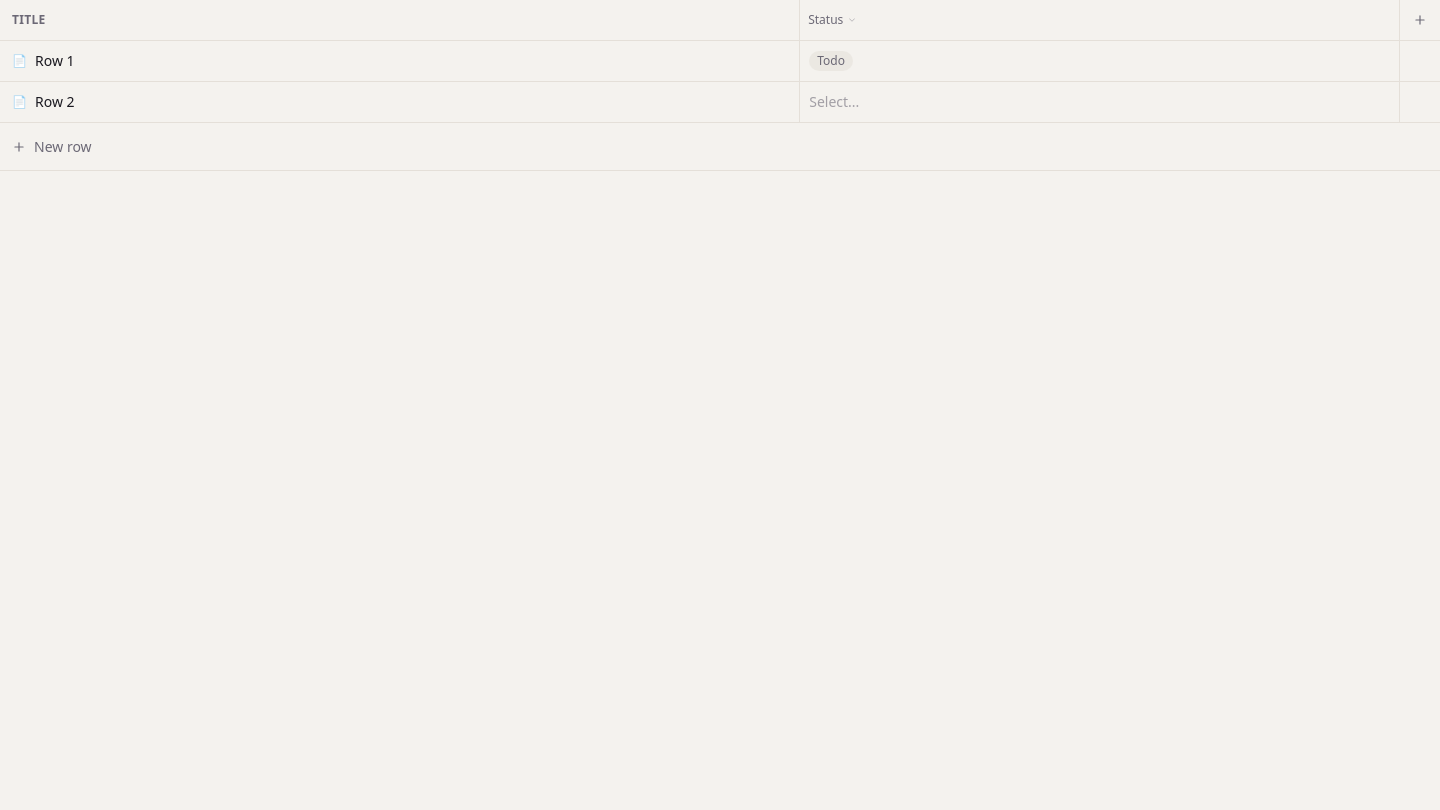
Test: DatabaseView — option management › shows options when the select cell is open
The image size is (1440, 810).
Expected: the text "Select..." is shown, left=809, top=92, right=859, bottom=112
Click the button "Select...". click: (834, 102)
box: left=800, top=82, right=1399, bottom=122
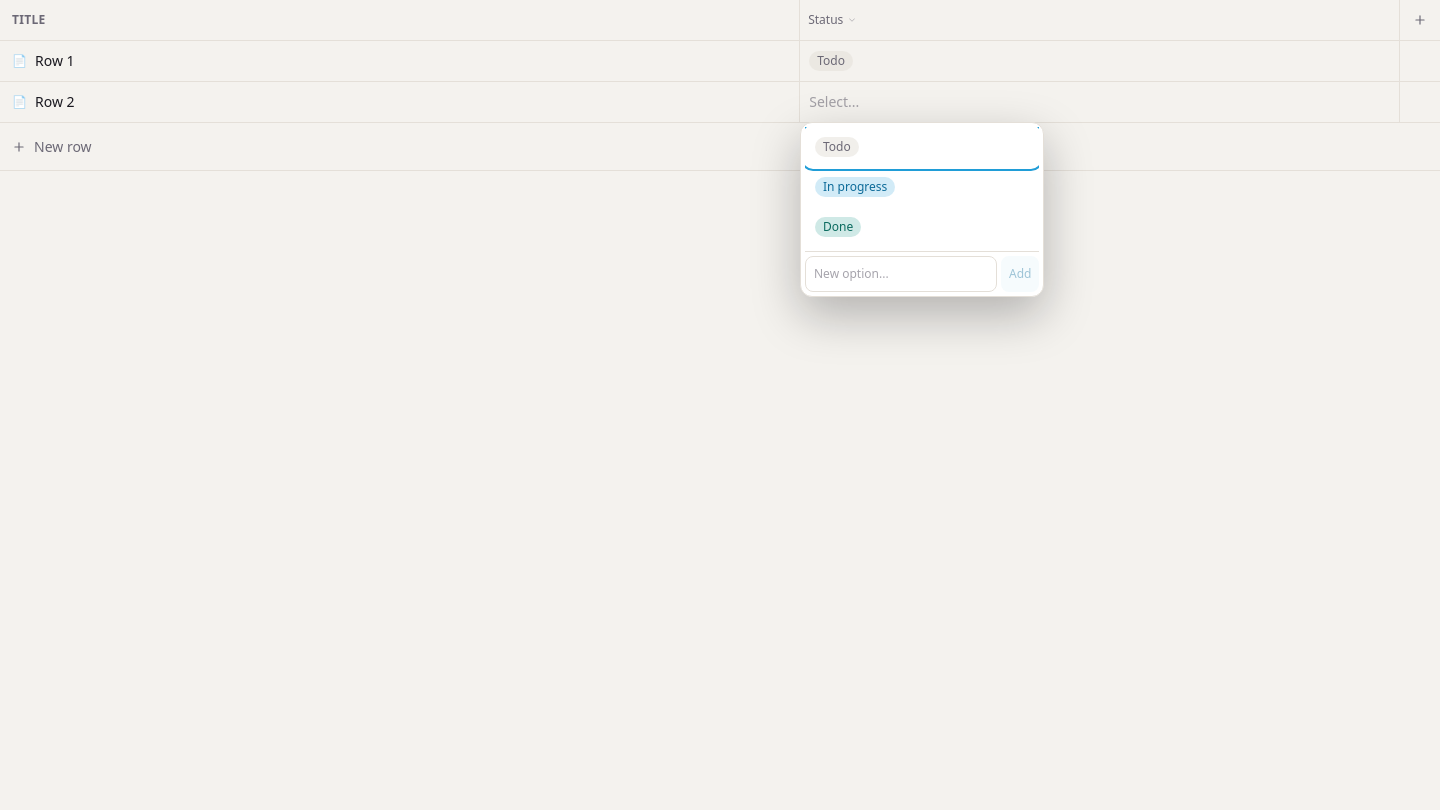
Result: the text "In progress" is shown at left=815, top=177, right=895, bottom=197
Result: the text "Done" is shown at left=815, top=217, right=861, bottom=237
